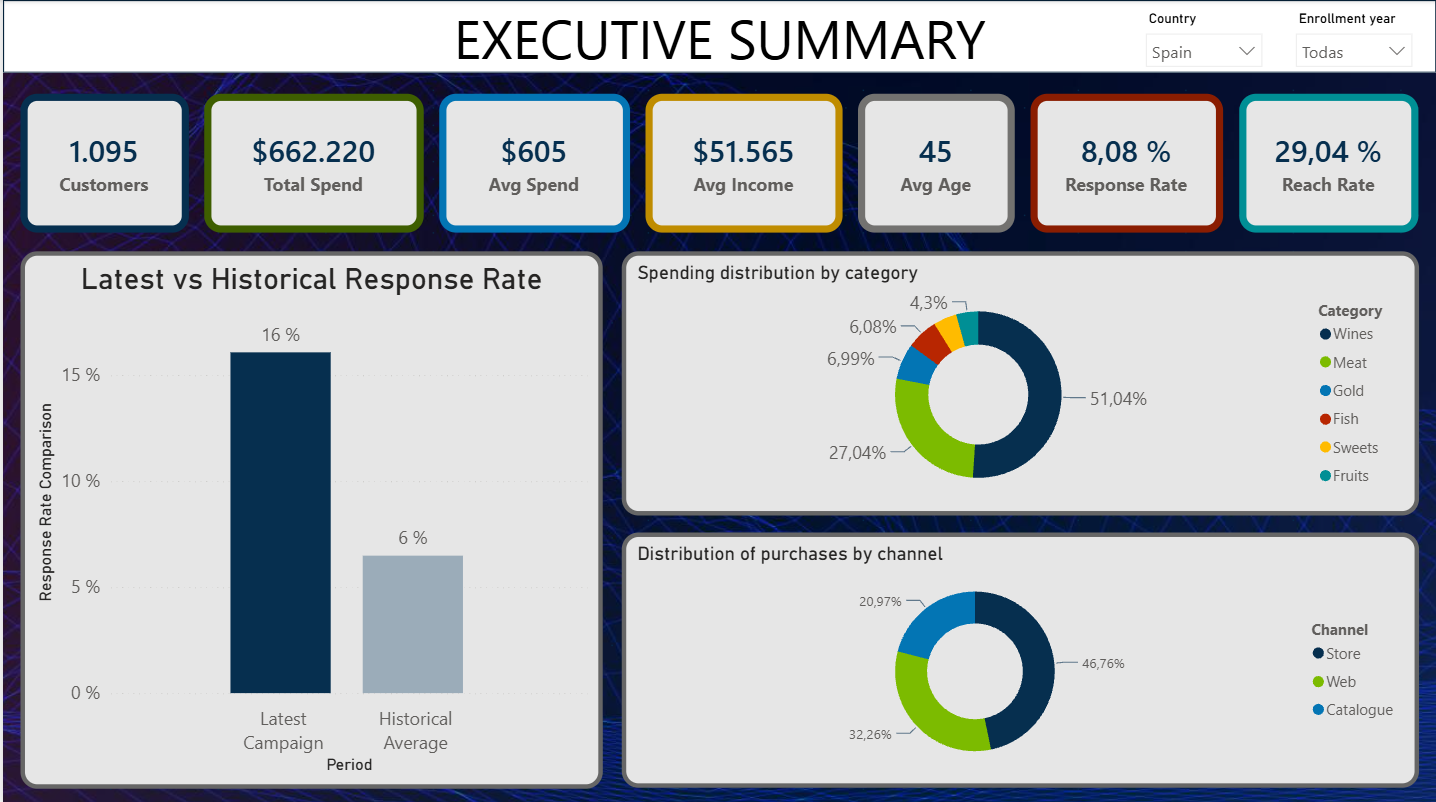

This screenshot's page, from the dashboard's own definition file:
{"tool":"powerbi","page":{"name":"1. Executive Summary","canvas":[1280,720],"ordinal":0},"visuals":[{"type":"cardVisual","fields":{"Data":["_Measures.Customer Count"]},"box":[16,84,150,124],"z":100},{"type":"cardVisual","fields":{"Data":["_Measures.Total Spend"]},"box":[180,84,196,124],"z":200},{"type":"cardVisual","fields":{"Data":["_Measures.Avg Spend per Customer"]},"box":[390,84,170,124],"z":300},{"type":"cardVisual","fields":{"Data":["_Measures.Avg Income"]},"box":[574,84,176,124],"z":400},{"type":"cardVisual","fields":{"Data":["_Measures.Avg Age"]},"box":[764,84,140,124],"z":500},{"type":"cardVisual","fields":{"Data":["_Measures.Response Rate"]},"box":[918,84,172,124],"z":600},{"type":"cardVisual","fields":{"Data":["_Measures.Campaign Reach Rate"]},"box":[1104,84,160,124],"z":700},{"type":"clusteredColumnChart","title":"Latest vs Historical Response Rate","fields":{"Category":["_Chart_ResponseComparison.Period"],"Y":["_Measures.Response Rate Comparison"]},"box":[16,224,520,480],"z":5000},{"type":"donutChart","title":"Spending distribution by category","fields":{"Category":["Fact_Spend.Category"],"Y":["_Measures.% of Total Spend"]},"box":[552,224,712,236],"z":6000},{"type":"donutChart","title":"Distribution of purchases by channel","fields":{"Category":["Fact_Channel.Channel"],"Y":["_Measures.% of Total Purchases"]},"box":[552,476,712,228],"z":7000},{"type":"shape","title":"EXECUTIVE SUMMARY","box":[0,0,1280,65],"z":10000},{"type":"slicer","fields":{"Values":["Dim_Customer.Country"]},"box":[1010,4,124,58],"z":11000},{"type":"slicer","fields":{"Values":["Dim_Date.Year"]},"box":[1144,4,124,58],"z":12000}]}

Visuals, with their boxes in screenshot pixels (x1, y1, x2, y2), scaled from the page's 1280x720 canvas onto the 1436x802 screenshot:
cardVisual - _Measures.Customer Count: bbox=[18, 94, 186, 232]
cardVisual - _Measures.Total Spend: bbox=[202, 94, 422, 232]
cardVisual - _Measures.Avg Spend per Customer: bbox=[438, 94, 628, 232]
cardVisual - _Measures.Avg Income: bbox=[644, 94, 841, 232]
cardVisual - _Measures.Avg Age: bbox=[857, 94, 1014, 232]
cardVisual - _Measures.Response Rate: bbox=[1030, 94, 1223, 232]
cardVisual - _Measures.Campaign Reach Rate: bbox=[1239, 94, 1418, 232]
"Latest vs Historical Response Rate" clusteredColumnChart: bbox=[18, 250, 601, 784]
"Spending distribution by category" donutChart: bbox=[619, 250, 1418, 512]
"Distribution of purchases by channel" donutChart: bbox=[619, 530, 1418, 784]
"EXECUTIVE SUMMARY" shape: bbox=[0, 0, 1435, 72]
slicer - Dim_Customer.Country: bbox=[1133, 4, 1272, 69]
slicer - Dim_Date.Year: bbox=[1283, 4, 1423, 69]
